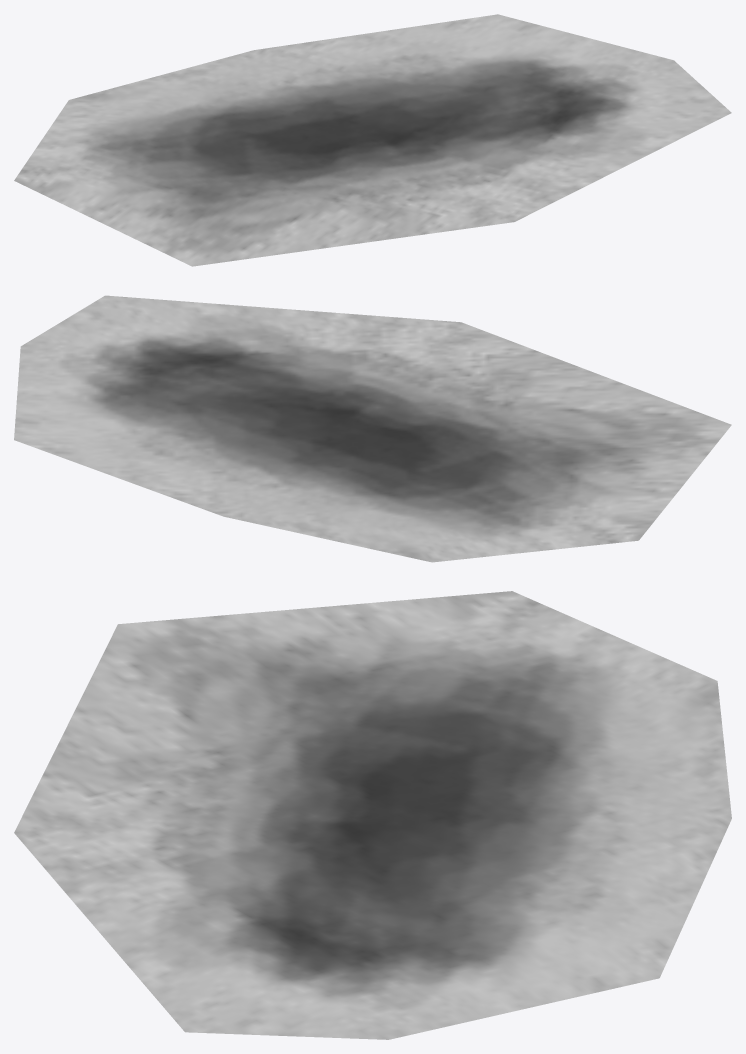
File: Frozen_See.fbx
3 renders of one model, top to bottom at view 1: azimuth 30°, elevation 25°; view 2: azimuth 150°, elevation 25°; view 3: azimuth 270°, elevation 25°, orthographic. The views are drawn at different scales.
Parts seen in each view (by area): view 1: Ice_plate_01; view 2: Ice_plate_01; view 3: Ice_plate_01.
Part boxes in pixels (x1,y1,x2,y2): Ice_plate_01: (14, 14, 731, 266); Ice_plate_01: (14, 295, 731, 562); Ice_plate_01: (14, 591, 731, 1039).
Bounding box in the file's own units: 7.2 × 7.93e-07 × 4.87.
